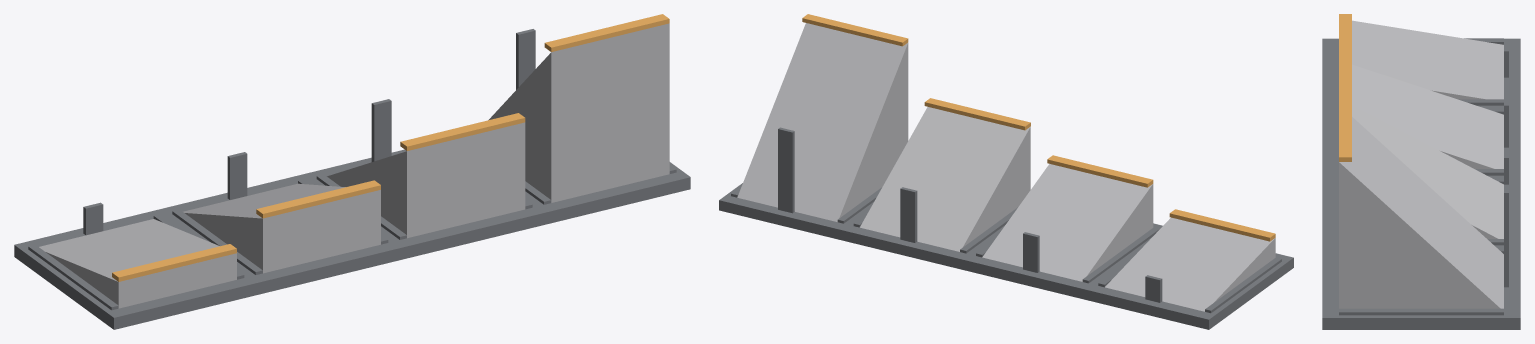
Rendered from modular-greybox-architecture-kit-slope-reference-wedge-d695927d__22915.glb.
3 renders of one model, left to right at view 1: azimuth 30°, elevation 25°; view 2: azimuth 150°, elevation 25°; view 3: azimuth 270°, elevation 25°, orthographic. The views are drawn at different scales.
Visible parts, largest first — view 1: slope-reference-wedge; view 2: slope-reference-wedge; view 3: slope-reference-wedge.
Part boxes in pixels (box(x1,y1,x2,y2)): slope-reference-wedge: box(14, 14, 690, 329); slope-reference-wedge: box(719, 14, 1293, 329); slope-reference-wedge: box(1322, 14, 1520, 329).
Bounding box in the file's own units: 4 × 1.11 × 1.2.
